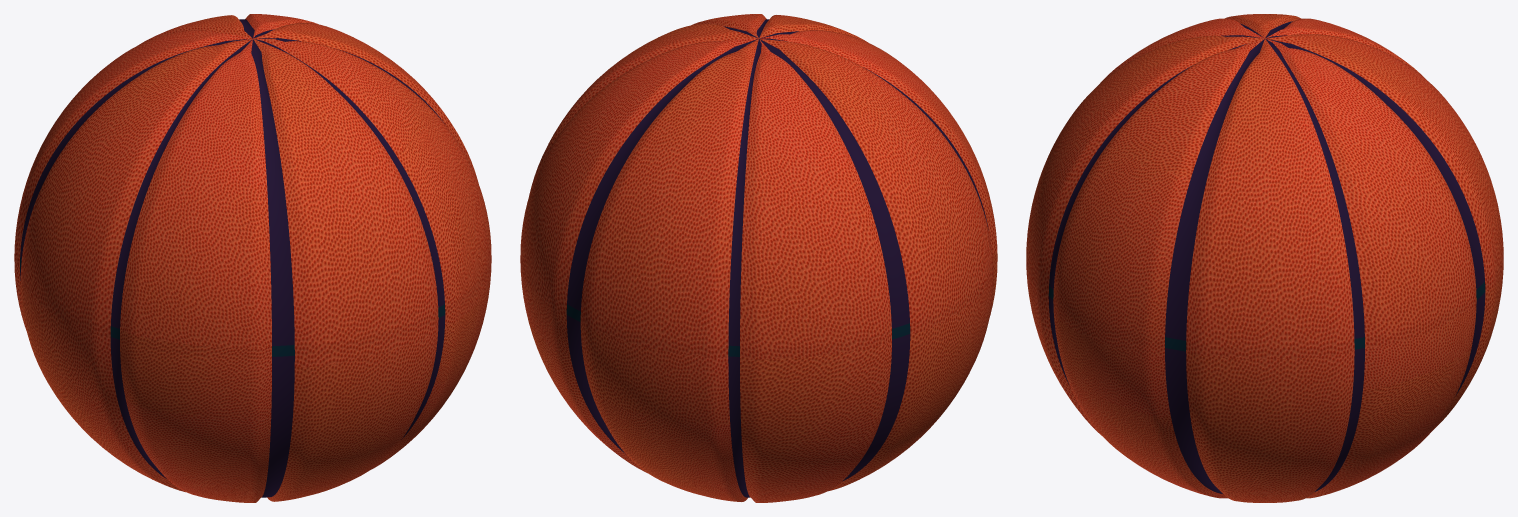
3 renders of one model, left to right at view 1: azimuth 30°, elevation 25°; view 2: azimuth 150°, elevation 25°; view 3: azimuth 270°, elevation 25°, orthographic.
Parts seen in each view (by area): view 1: sphere1_auv, preto; view 2: sphere1_auv, preto; view 3: sphere1_auv, preto.
Boxes of the visible parts, x1,y1,x2,y2 form: sphere1_auv: (14, 14, 491, 502); preto: (20, 19, 445, 497); sphere1_auv: (520, 14, 997, 502); preto: (566, 19, 988, 497); sphere1_auv: (1026, 14, 1503, 502); preto: (1048, 21, 1485, 493).
Bounding box in the file's own units: 1.9 × 1.96 × 1.9.
2 materials, 1 textured.
